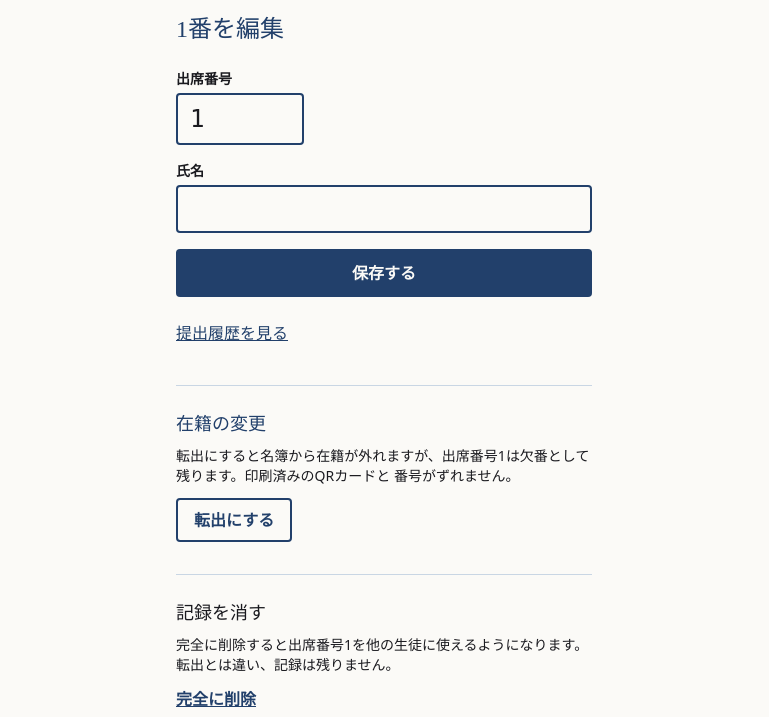
保存 › 氏名の設定がONなら氏名を変えられる
Type "やまだ" into the field labelled "氏名" at {"x": 384, "y": 209}, box [176, 185, 592, 233]
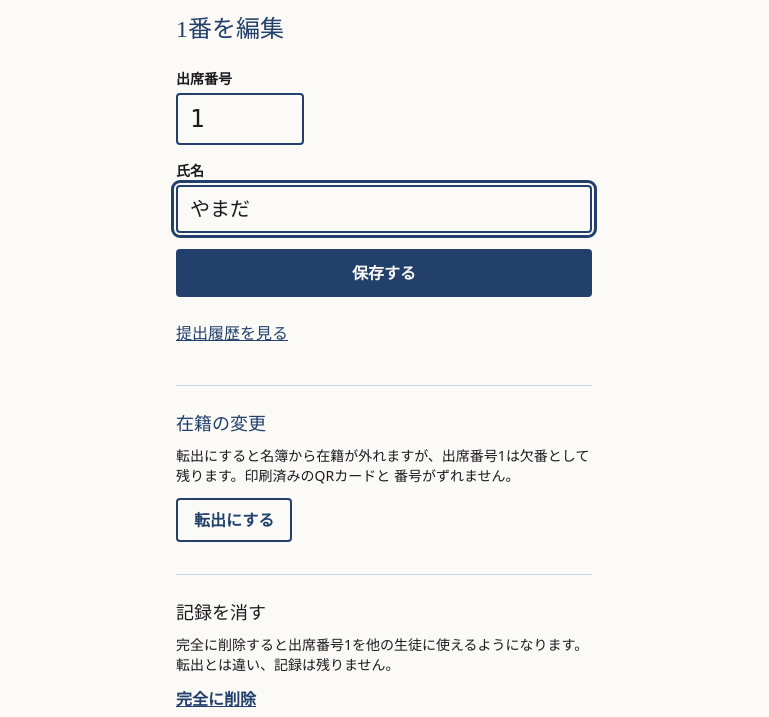
Click the button "保存する" at {"x": 384, "y": 273}, box [176, 249, 592, 297]
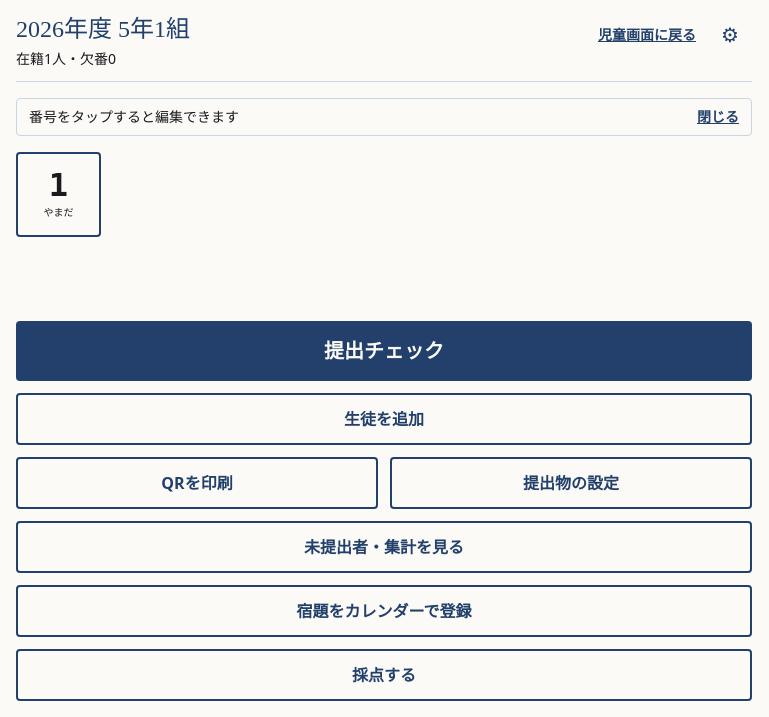
Expected: the text "在籍1人・欠番0" is shown, [16, 49, 116, 68]
Expected: the text "やまだ" is shown, [44, 205, 74, 219]
